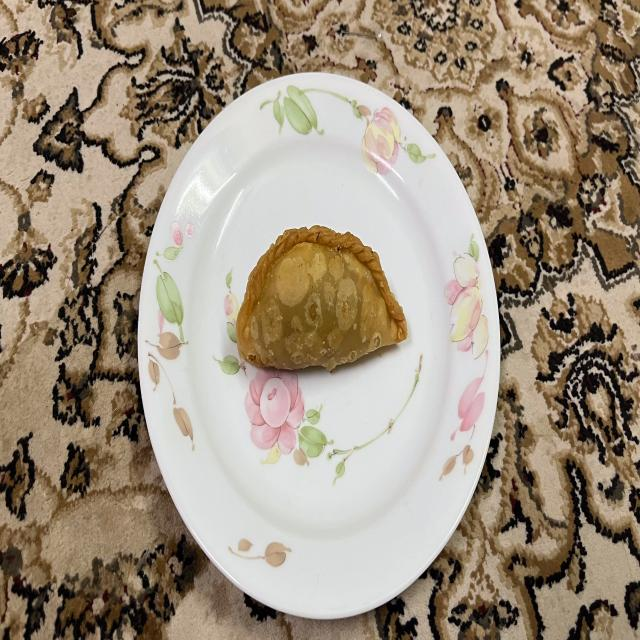karipap: (234, 224, 408, 371)
